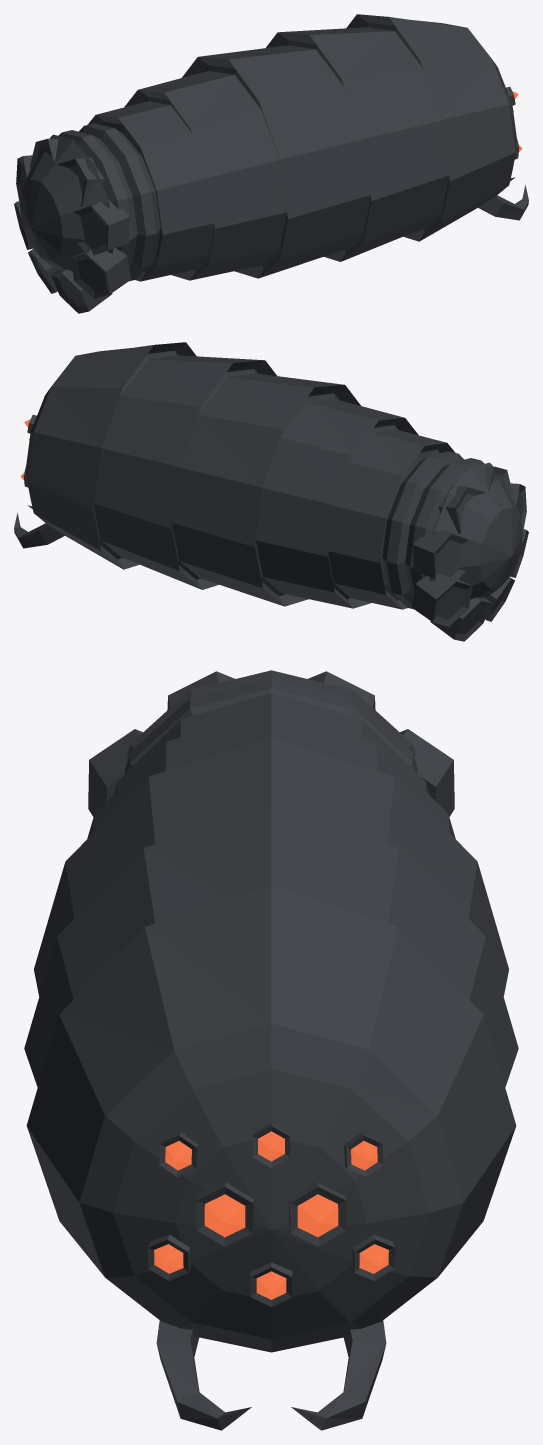
The model's file is SM_MechSentinel_Head.fbx.
3 views of the same model, one above another, from view 1: azimuth 30°, elevation 25°; view 2: azimuth 150°, elevation 25°; view 3: azimuth 270°, elevation 25° (orthographic). The views are drawn at different scales.
Parts seen in each view (by area): view 1: SM_MechSentinel_Head; view 2: SM_MechSentinel_Head; view 3: SM_MechSentinel_Head.
Boxes of the visible parts, <box> form: SM_MechSentinel_Head: <box>14,14,528,313</box>; SM_MechSentinel_Head: <box>14,342,528,641</box>; SM_MechSentinel_Head: <box>24,670,518,1430</box>.
Size of the model in its own units: 2.36 by 0.9991 by 1.03.
